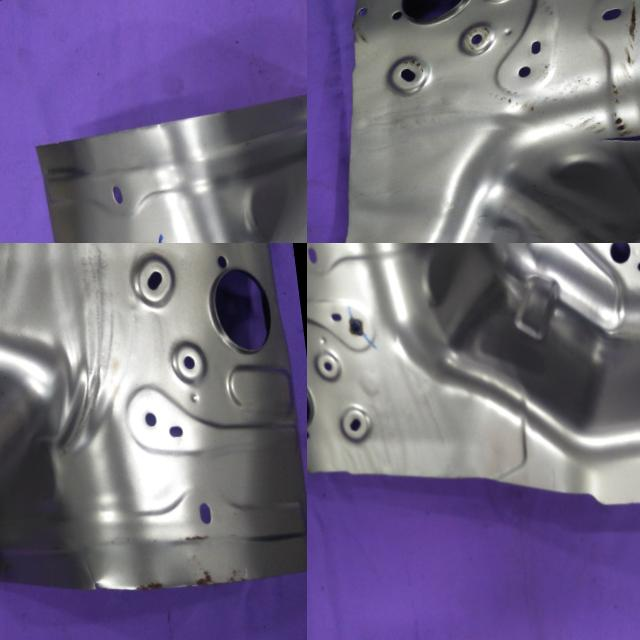Defect: (580, 95, 640, 166)
Healthy: (307, 243, 640, 559), (30, 46, 307, 243)
rust: (185, 545, 257, 605), (156, 512, 228, 564), (114, 566, 174, 607)
